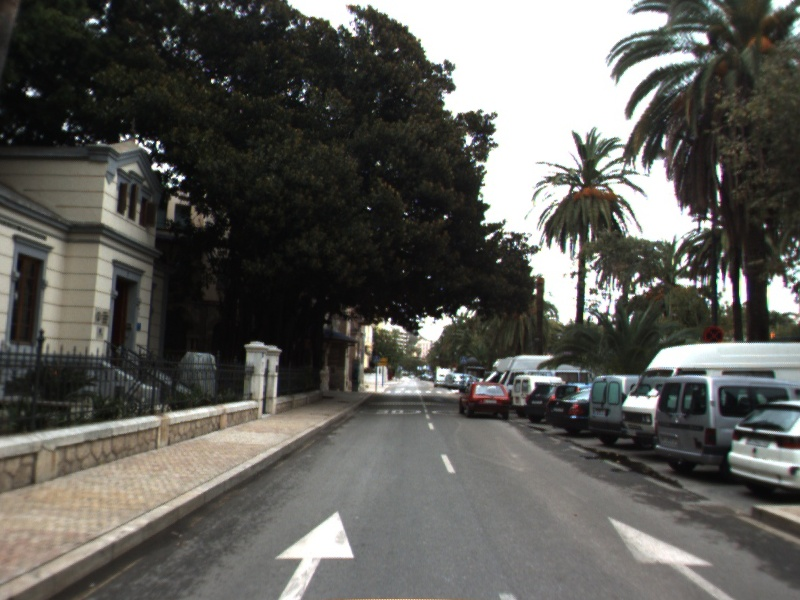STRAIGHT: (606, 515, 738, 600), (273, 509, 356, 600)
